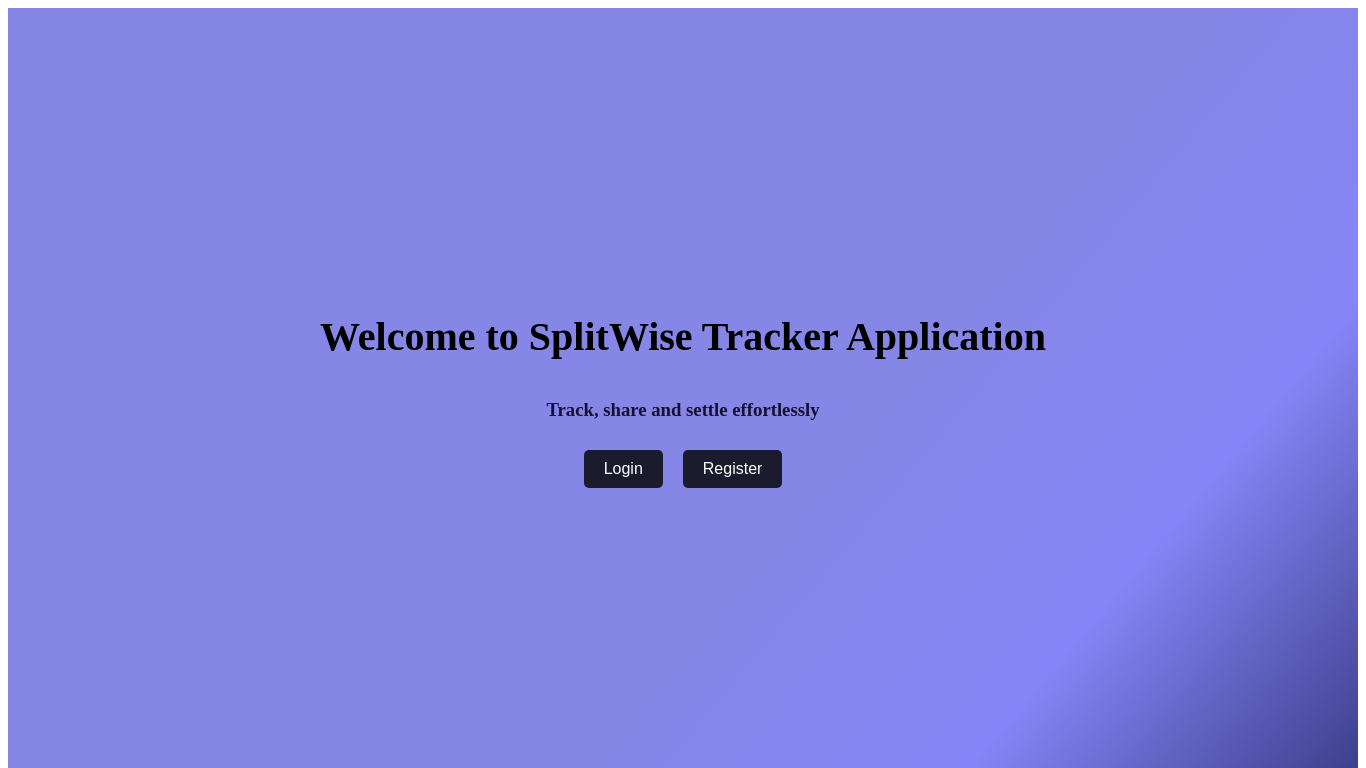
Test case: Tests related to WelcomePage › should navigate to login page when login button is clicked
Click the button "Login".
click(623, 469)  # box [584,450,663,488]
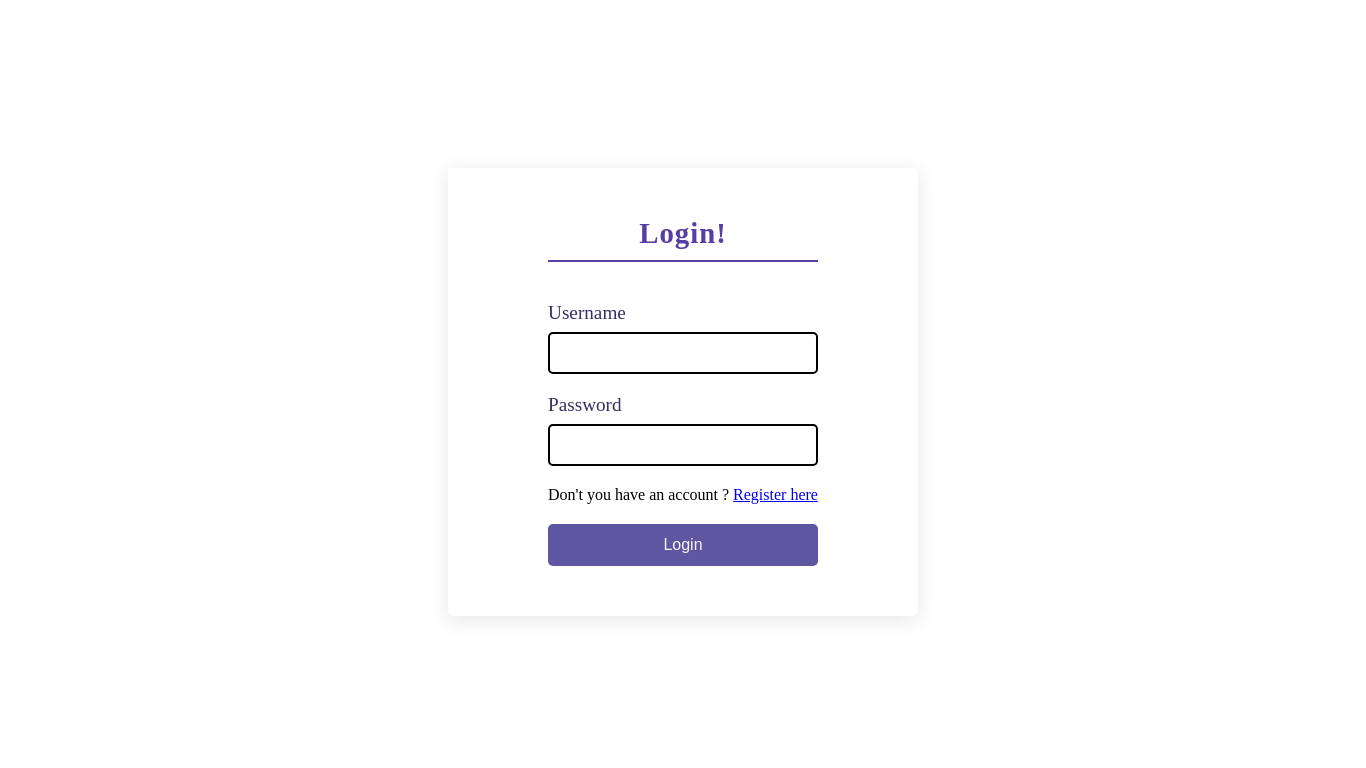
Check: the text "Login!" is shown, box [548,207,818,262]
